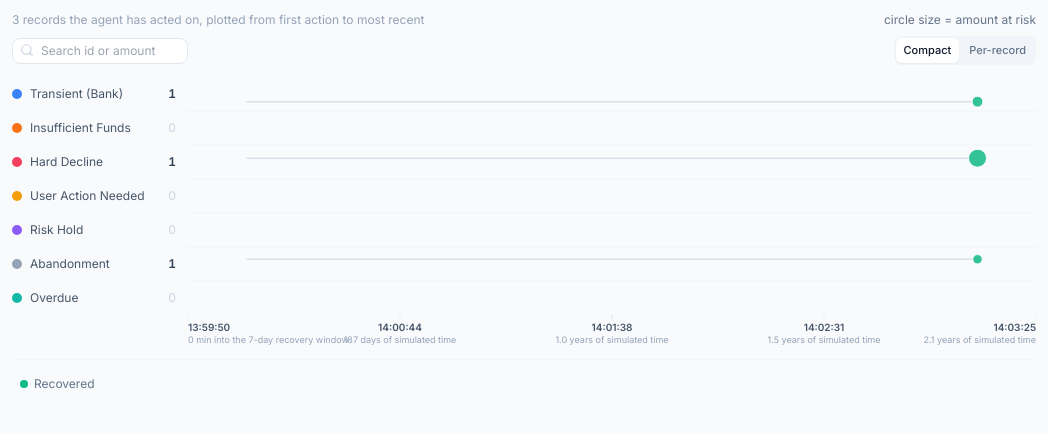
Test: HistoryTimeline: search (Unit AP) › clears via "Clear filters, show everything" alongside bucket/outcome filters
The image size is (1048, 434).
Type "f43f" into the field with test id "timeline-search-input" at (100, 51), box [12,38,188,64]
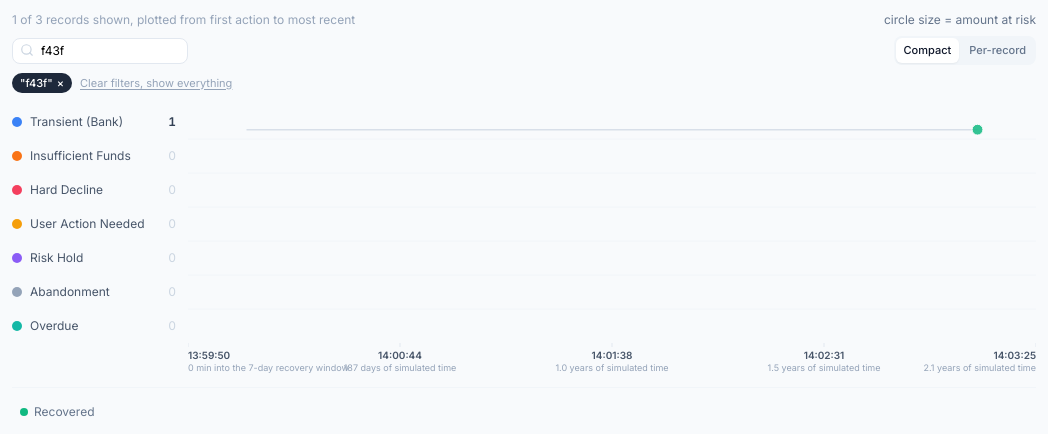
Click the button with test id "clear-filters" at (156, 83), box [80,74,232,91]
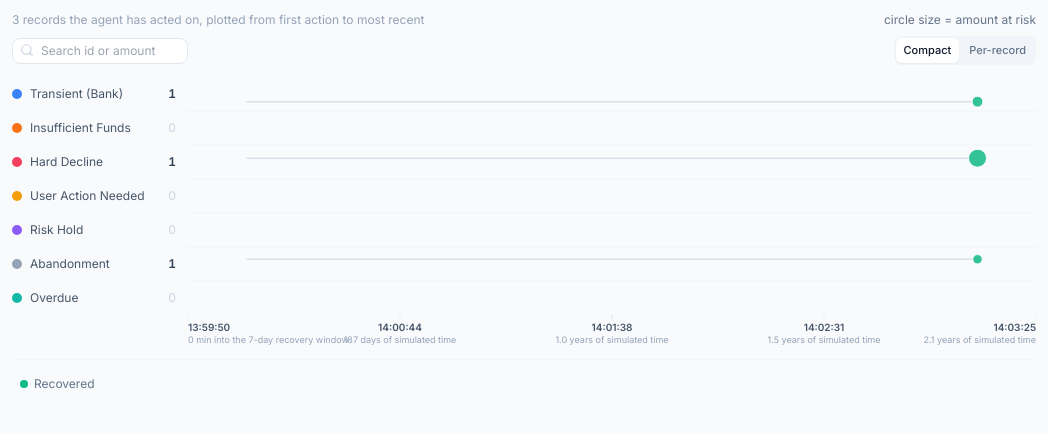
Check: the field with test id "timeline-search-input" is empty, box [12,38,188,64]
